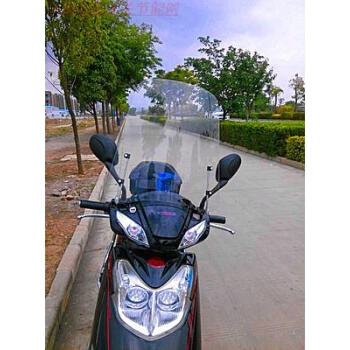电动车: (56, 79, 252, 350)
